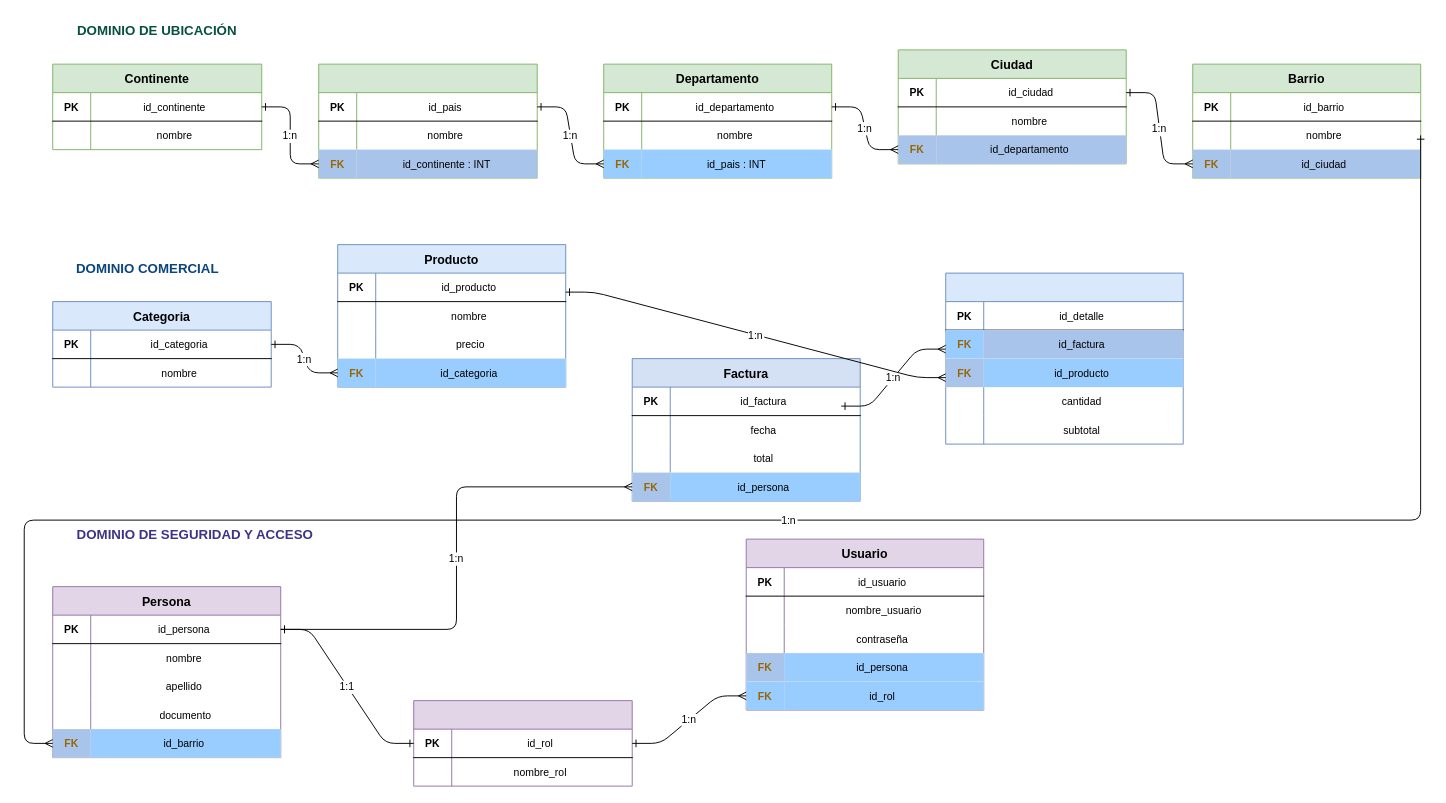
The diagram is 1446 pixels wide and 803 high, and some of its shapes have lost their labels. Each missing label, with the box of its shape:
Detalle_factura: (945, 272, 1183, 444)
País: (318, 63, 537, 178)
Roles: (413, 700, 632, 786)
